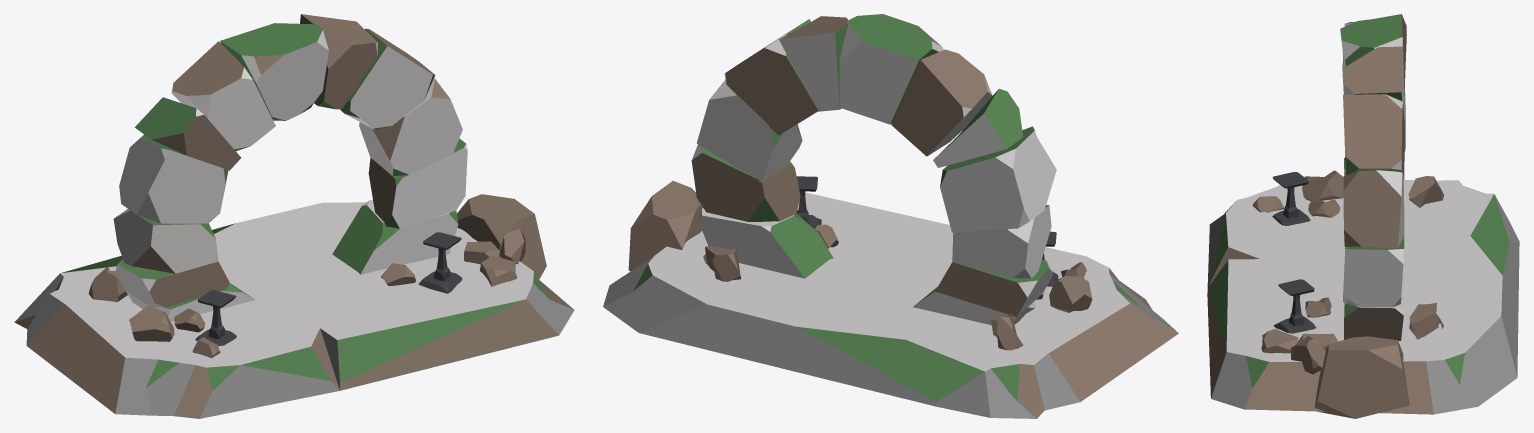
The model's file is Portal.fbx.
The picture shows the model from 3 angles, left to right: view 1: azimuth 30°, elevation 25°; view 2: azimuth 150°, elevation 25°; view 3: azimuth 270°, elevation 25°; orthographic projection. The views are drawn at different scales.
Visible parts, largest first — view 1: portal_pro.001, rack.003, rack.002; view 2: portal_pro.001, rack.003; view 3: portal_pro.001, rack.003, rack.002.
Boxes of the visible parts, x1,y1,x2,y2 form: portal_pro.001: (14,14,574,418); rack.003: (418,232,462,293); rack.002: (195,290,236,345); portal_pro.001: (603,14,1178,418); rack.003: (796,176,821,227); portal_pro.001: (1207,14,1519,418); rack.003: (1273,279,1316,333); rack.002: (1272,172,1310,225).
Size of the model in its own units: 1139 by 675 by 678.
